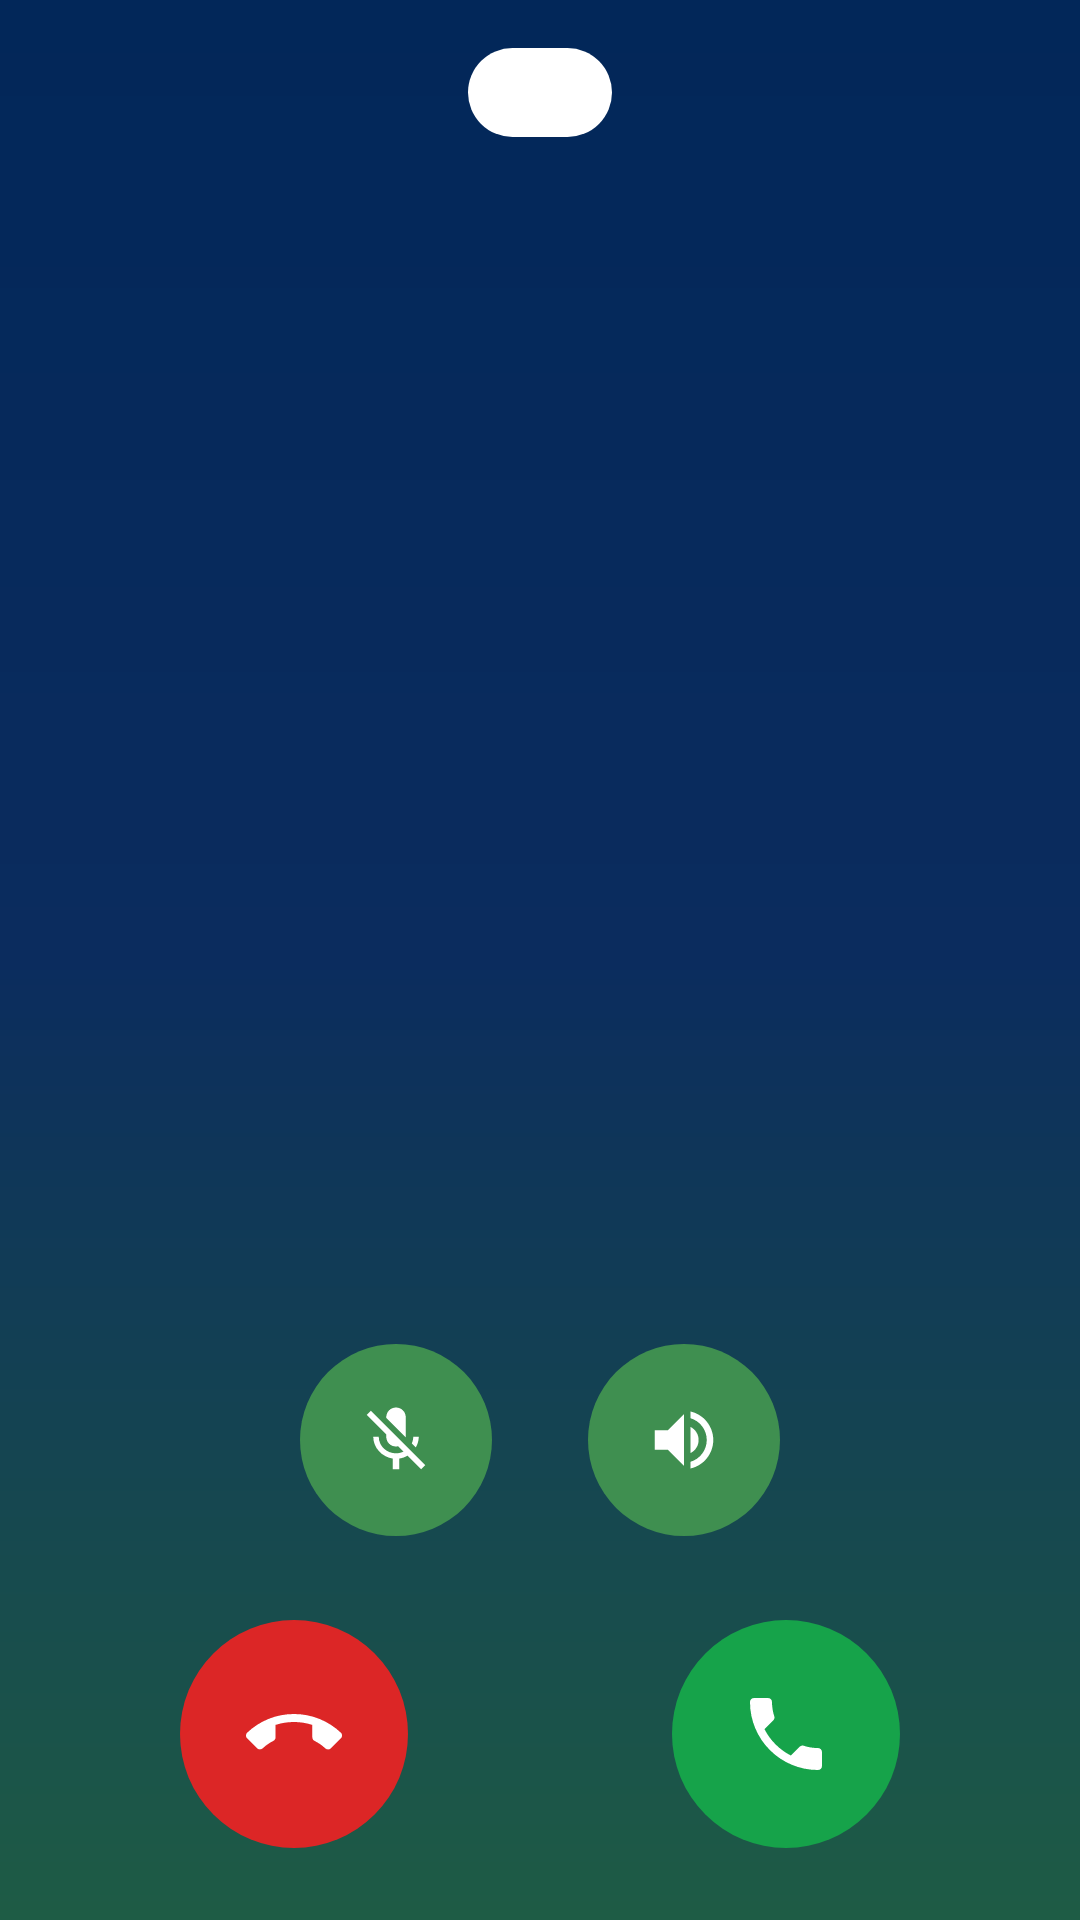

Locate icon controls on the screen. Image size 1080 x 1920, boxes as (x1, y1, x2, y2).
Answer: (672, 1620, 900, 1848)
Decline: (180, 1620, 408, 1848)
Mute: (300, 1344, 492, 1536)
Speaker: (588, 1344, 780, 1536)
